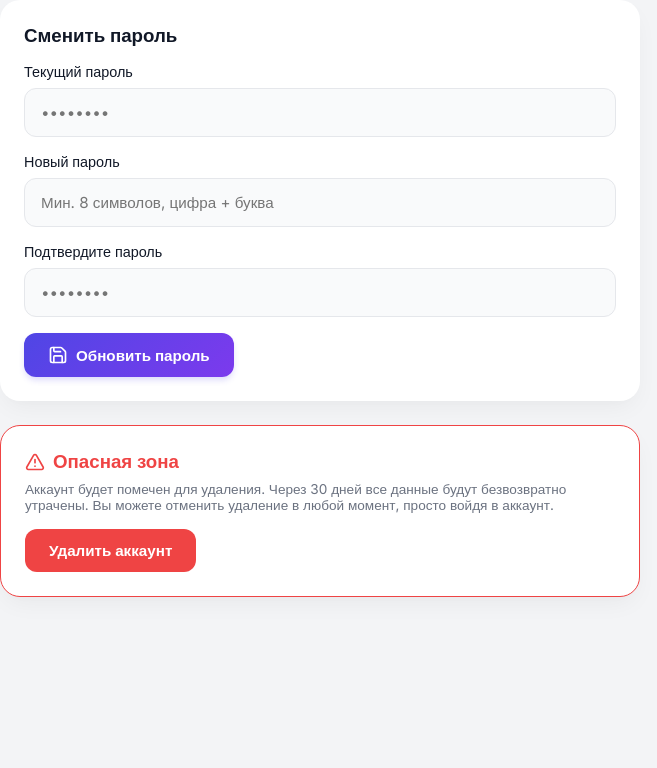
Scenario: Security page — no alert() (UI-006) › shows error in UI instead of alert
# Open delete section
Click the button "Удалить аккаунт" at (111, 550), box [25, 529, 196, 572]
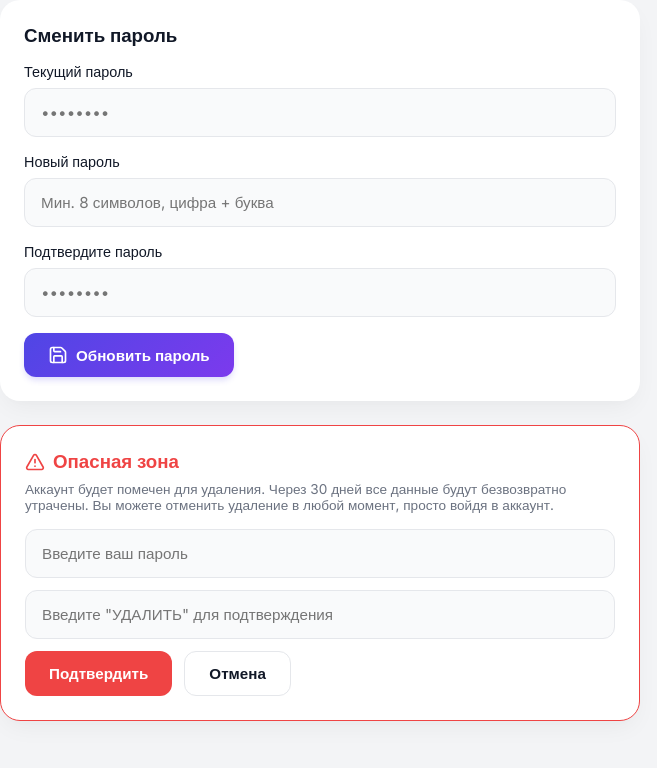
# Fill in password (required for button to be enabled)
Type "TestPassword123" into the password field with placeholder "Введите ваш пароль" at (320, 554), box [25, 529, 615, 578]
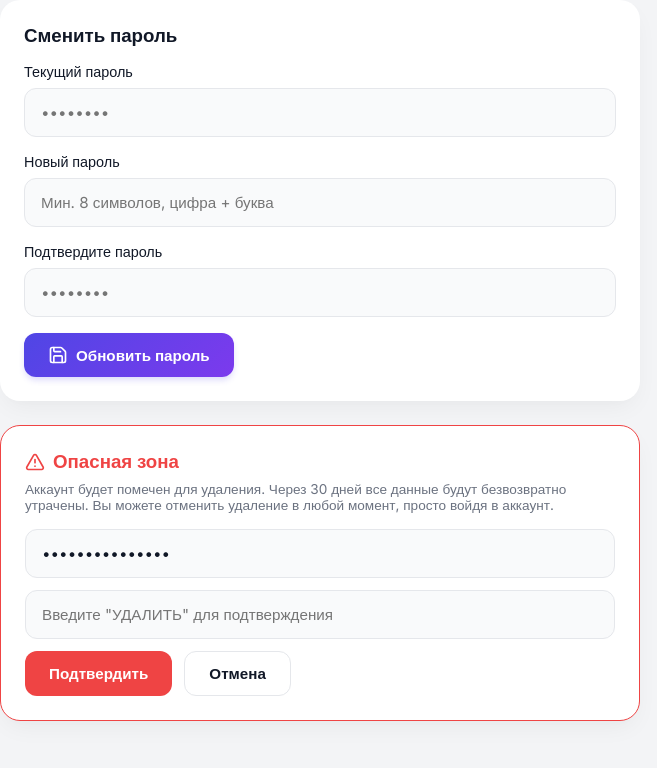
# Type confirmation
Type "УДАЛИТЬ" into the field with placeholder "Введите \"УДАЛИТЬ\" для подтверждения" at (320, 614), box [25, 590, 615, 639]
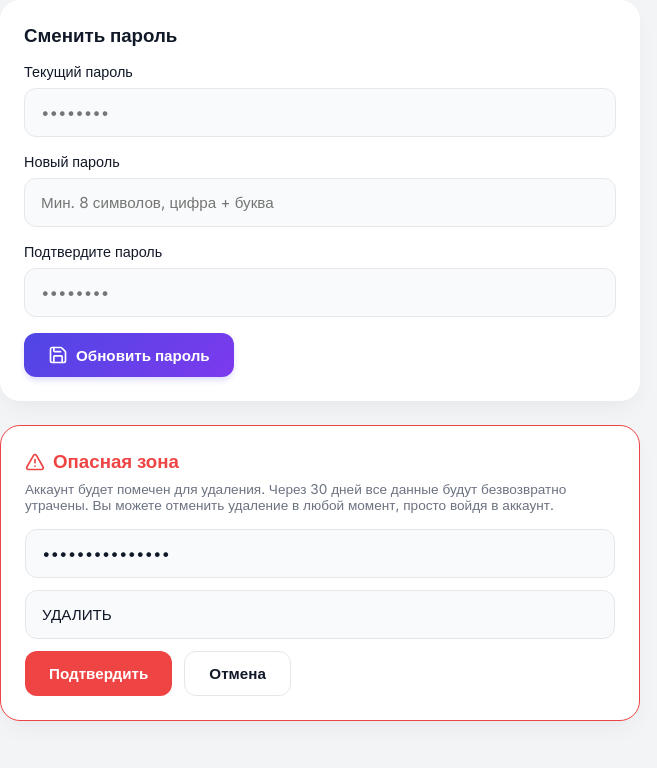
Click the button "Подтвердить" at (99, 674), box [25, 651, 172, 696]
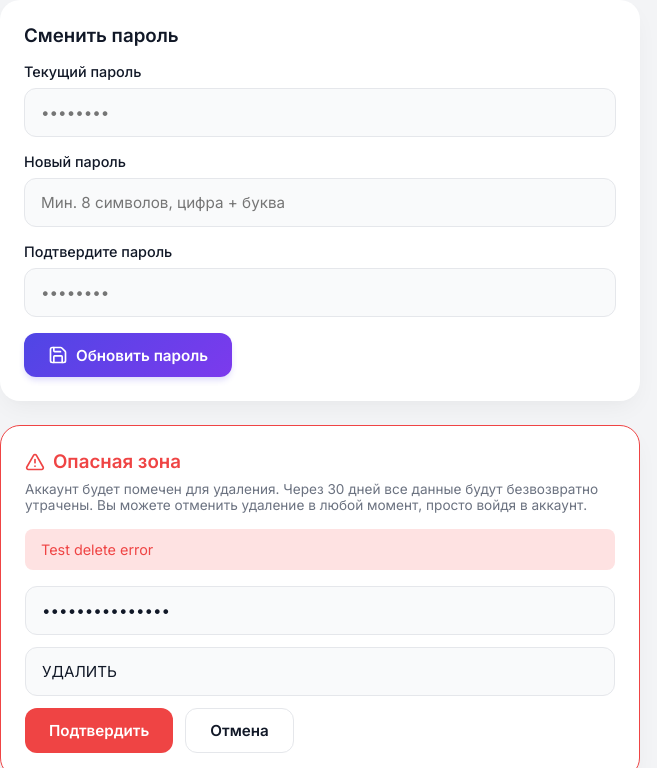
Check: the text "Test delete error" is shown, box [25, 529, 615, 570]
